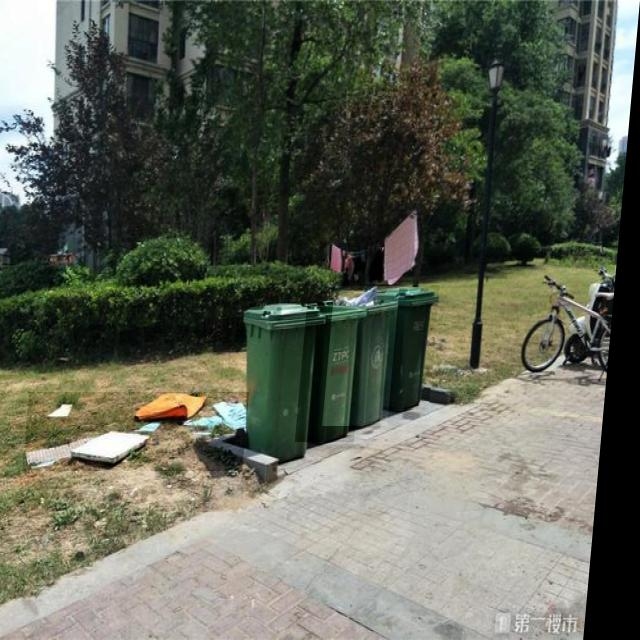garbage: (31, 392, 256, 471)
garbage_bin: (238, 302, 327, 457), (303, 302, 372, 442), (374, 286, 445, 410)
overflow: (330, 286, 405, 426)
